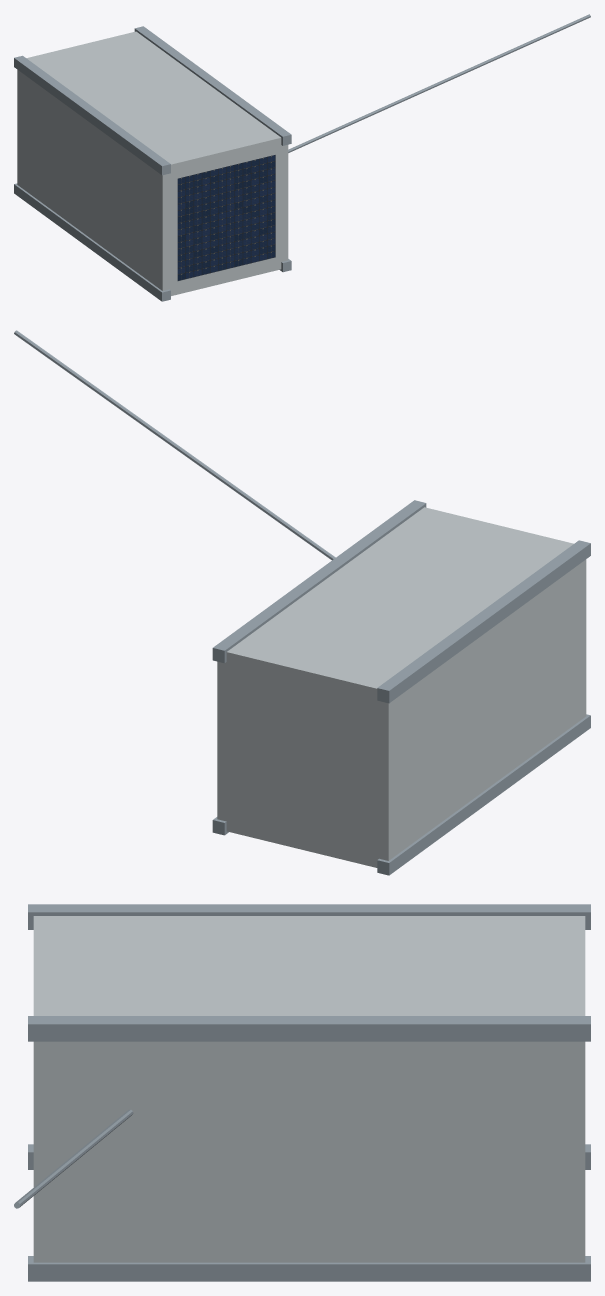
The model's file is ref-cubesat-1-5u-60525.glb.
3 renders of one model, top to bottom at view 1: azimuth 30°, elevation 25°; view 2: azimuth 150°, elevation 25°; view 3: azimuth 270°, elevation 25°, orthographic. The views are drawn at different scales.
Visible parts, largest first — view 1: Spacecraft body, Body-mounted cells, Dispenser rail (×3), Antenna boom; view 2: Spacecraft body, Dispenser rail (×3), Antenna boom; view 3: Spacecraft body, Dispenser rail (×3), Antenna boom.
Part boxes in pixels (x1,y1,x2,y2): Spacecraft body: [17, 31, 288, 295]; Body-mounted cells: [177, 155, 275, 280]; Dispenser rail (×3): [14, 26, 291, 301]; Antenna boom: [288, 14, 590, 152]; Spacecraft body: [217, 507, 586, 867]; Dispenser rail (×3): [212, 500, 590, 875]; Antenna boom: [14, 330, 335, 560]; Spacecraft body: [33, 916, 585, 1262]; Dispenser rail (×3): [28, 904, 590, 1281]; Antenna boom: [14, 1109, 133, 1208].
Size of the model in its own units: 0.3385 by 0.1413 by 0.2091.
3 materials, 1 textured.
